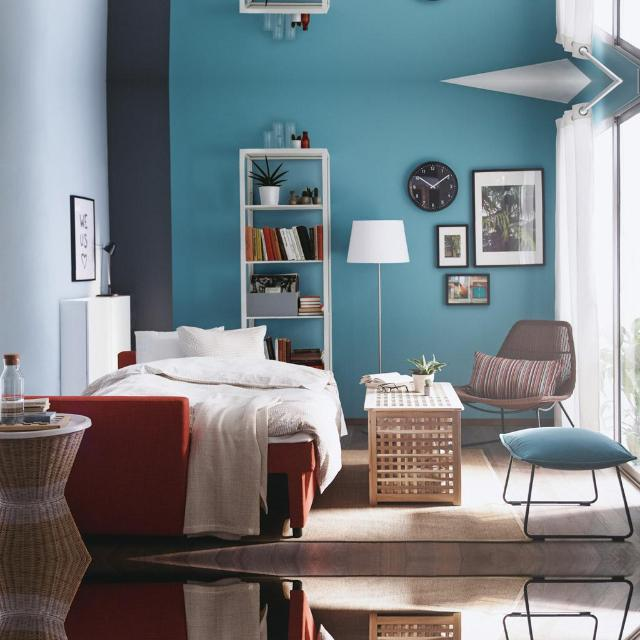armchair: (455, 319, 576, 432)
bed: (50, 325, 346, 539), (65, 577, 268, 640)
clock: (408, 161, 458, 210)
curtain: (555, 102, 599, 429)
dresser: (60, 295, 130, 393)
lamp: (348, 219, 409, 371), (100, 241, 118, 294)
plant: (249, 155, 288, 204), (408, 352, 446, 391)
rug: (300, 448, 528, 541), (300, 575, 528, 640)
shelf: (239, 148, 332, 368)
stool: (500, 426, 635, 540), (502, 576, 634, 640)
table: (0, 414, 91, 557), (365, 381, 464, 505), (0, 559, 89, 640), (370, 611, 461, 640)
wall-art: (473, 168, 545, 264), (70, 194, 96, 280), (446, 272, 490, 304), (436, 224, 468, 266)
